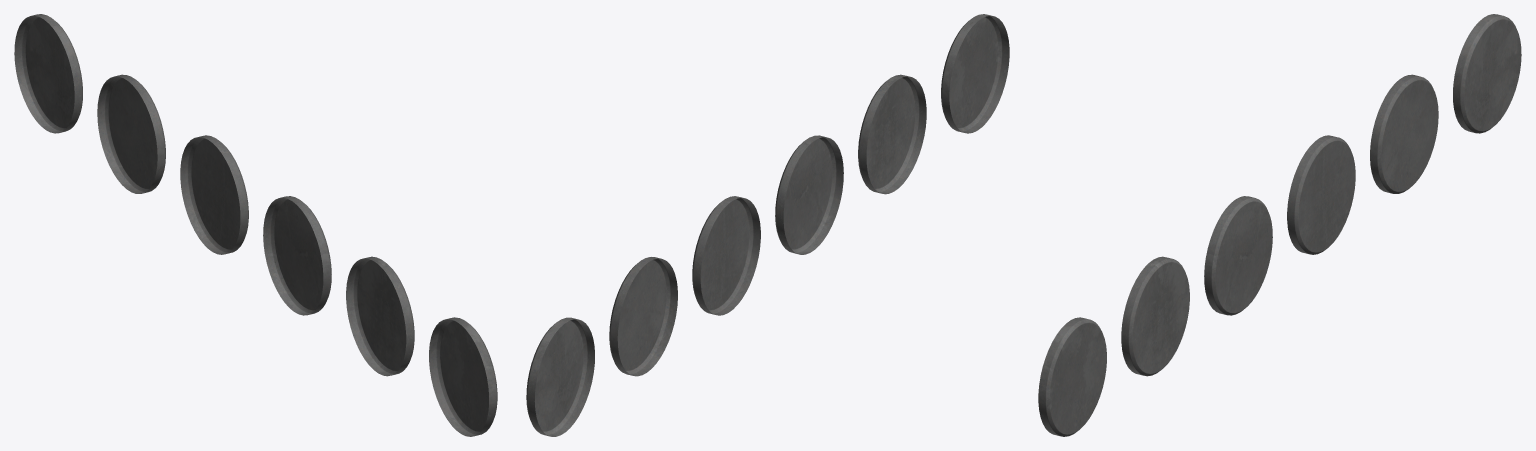
File: cP_Pathway03_SteppingStoneRound_Comb01.dae
3 renders of one model, left to right at view 1: azimuth 30°, elevation 25°; view 2: azimuth 150°, elevation 25°; view 3: azimuth 330°, elevation 25°, orthographic.
Parts seen in each view (by area): view 1: cP_Pathway03_SteppingStoneRound_Comb01.001; view 2: cP_Pathway03_SteppingStoneRound_Comb01.001; view 3: cP_Pathway03_SteppingStoneRound_Comb01.001.
Boxes of the visible parts, x1,y1,x2,y2 form: cP_Pathway03_SteppingStoneRound_Comb01.001: (14, 14, 497, 436); cP_Pathway03_SteppingStoneRound_Comb01.001: (526, 14, 1009, 436); cP_Pathway03_SteppingStoneRound_Comb01.001: (1038, 14, 1521, 436).
Bounding box in the file's own units: 0.0521 × 4.29 × 0.5456.
